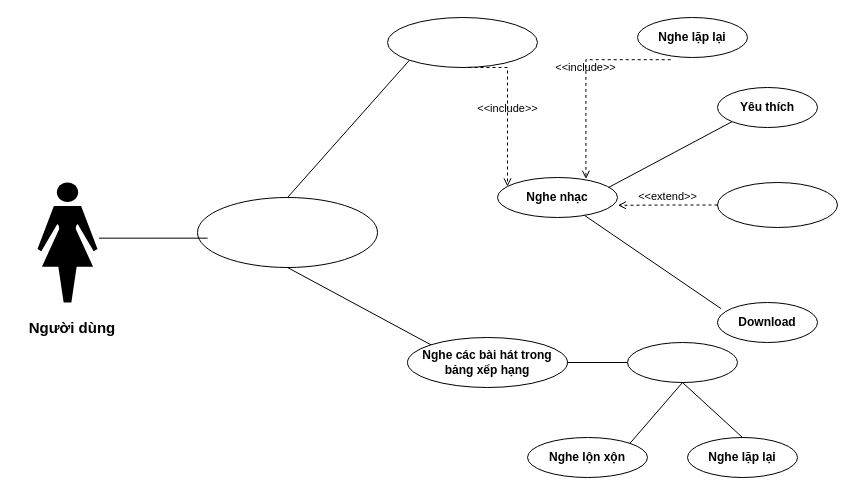
The diagram is 855 pixels wide and 495 high, and some of its shapes have lost their labels. Each missing label, with the box of its shape:
Chọn Album, chủ đề,thể loại bài hát: (196, 196, 378, 268)
Chọn chế độ nghe: (626, 342, 738, 382)
Chọn một bài hát: (386, 16, 538, 68)
Xem lời bài hát: (716, 182, 838, 228)
